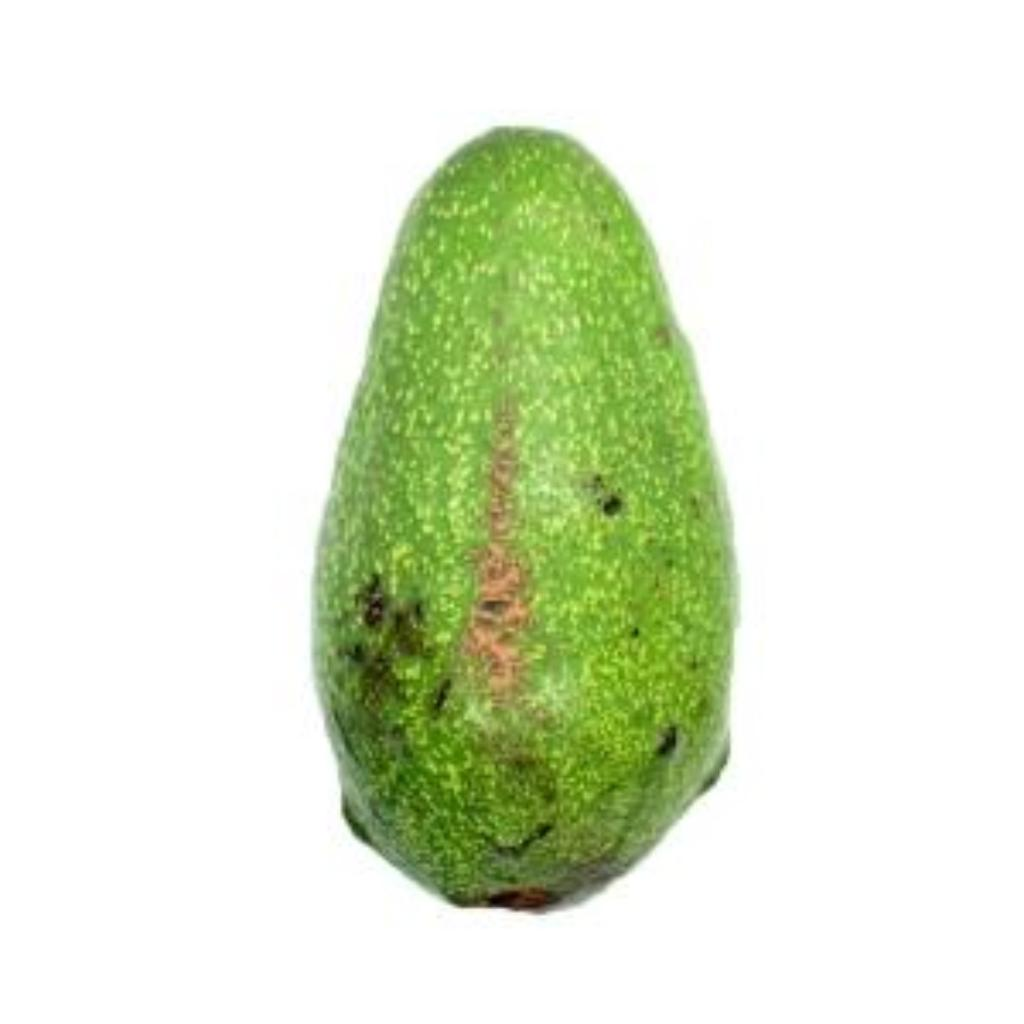cercospora_spot: (290, 116, 748, 936)
